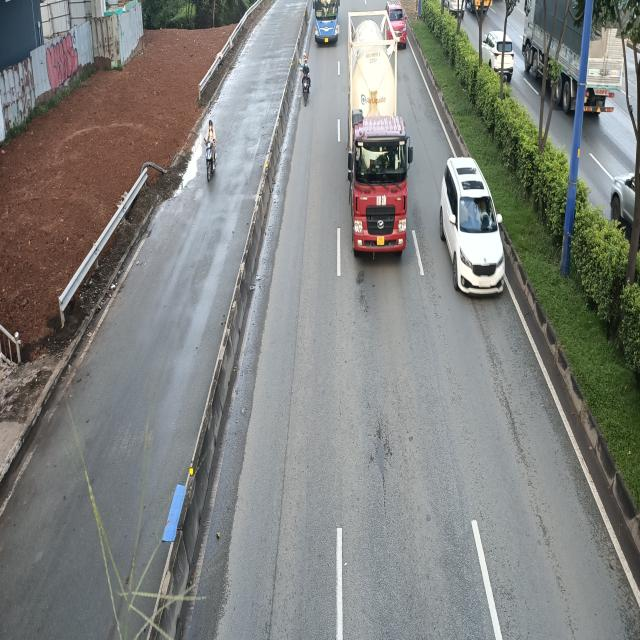car: (437, 155, 503, 295), (386, 2, 406, 46)
coach: (312, 0, 340, 44)
container: (349, 17, 414, 257)
